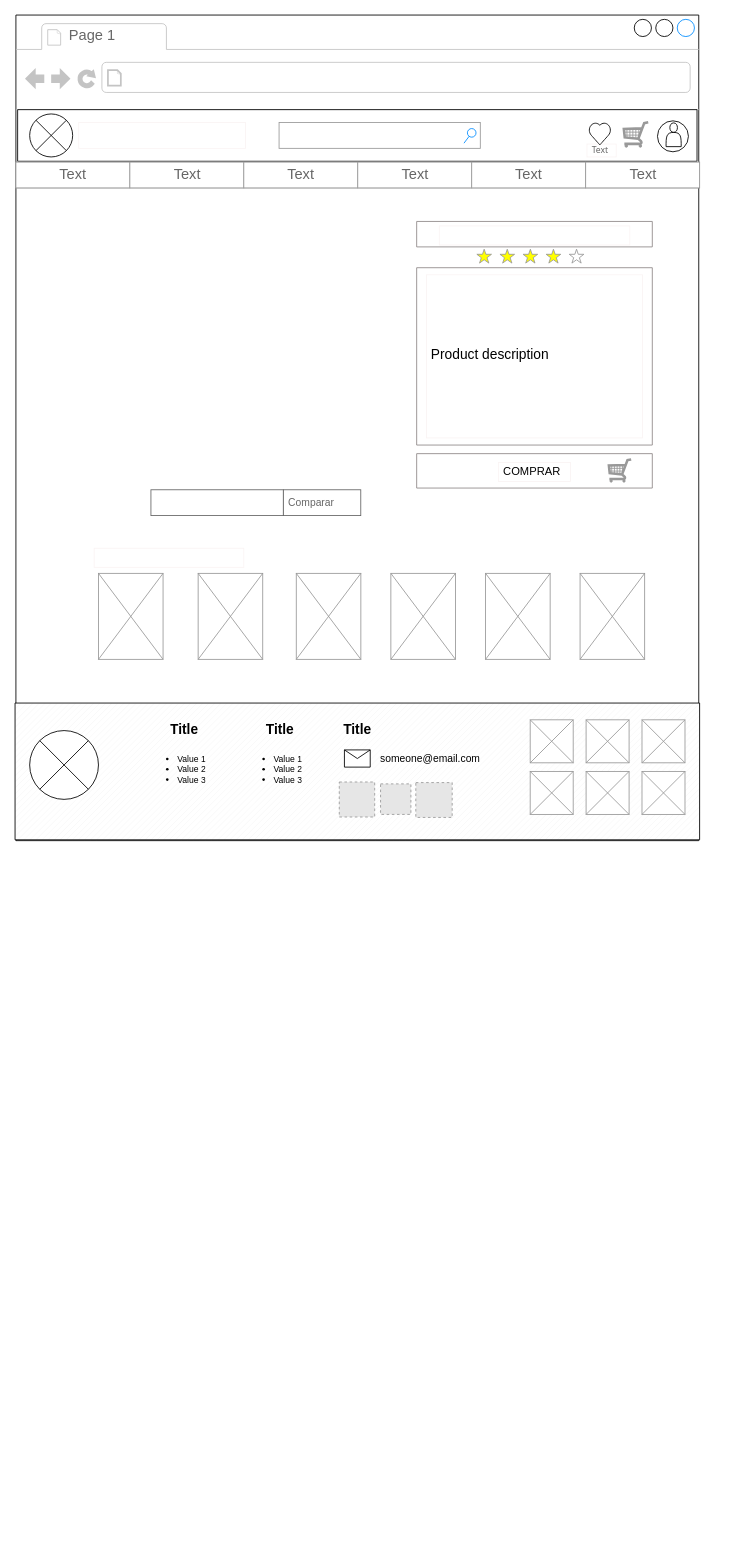
Image size: 753x1559. Some labels were removed from this diagram. Grey dashed boxes stand in for pictures. Each missing label, with the centre of its shape:
"Casa Blanca" goes at point 162,135.
"Especificaciones técnicas" goes at point 216,502.
"https://www.draw.io" goes at point 235,77.
"Product title" goes at point 534,235.
"Search" goes at point 379,135.
"También te puede interesar" goes at point 168,557.
